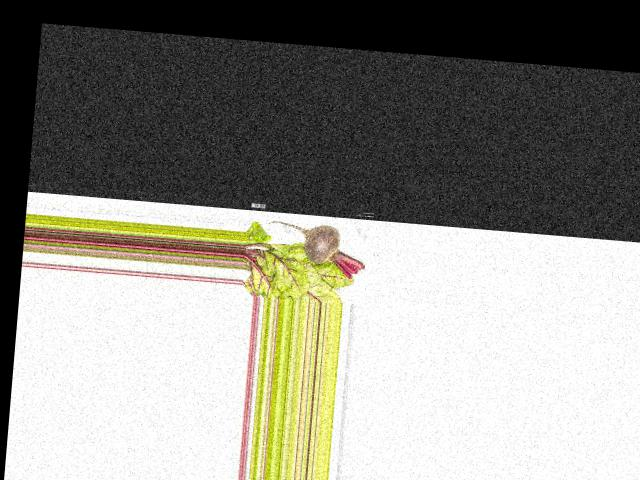beet: (265, 220, 368, 279)
